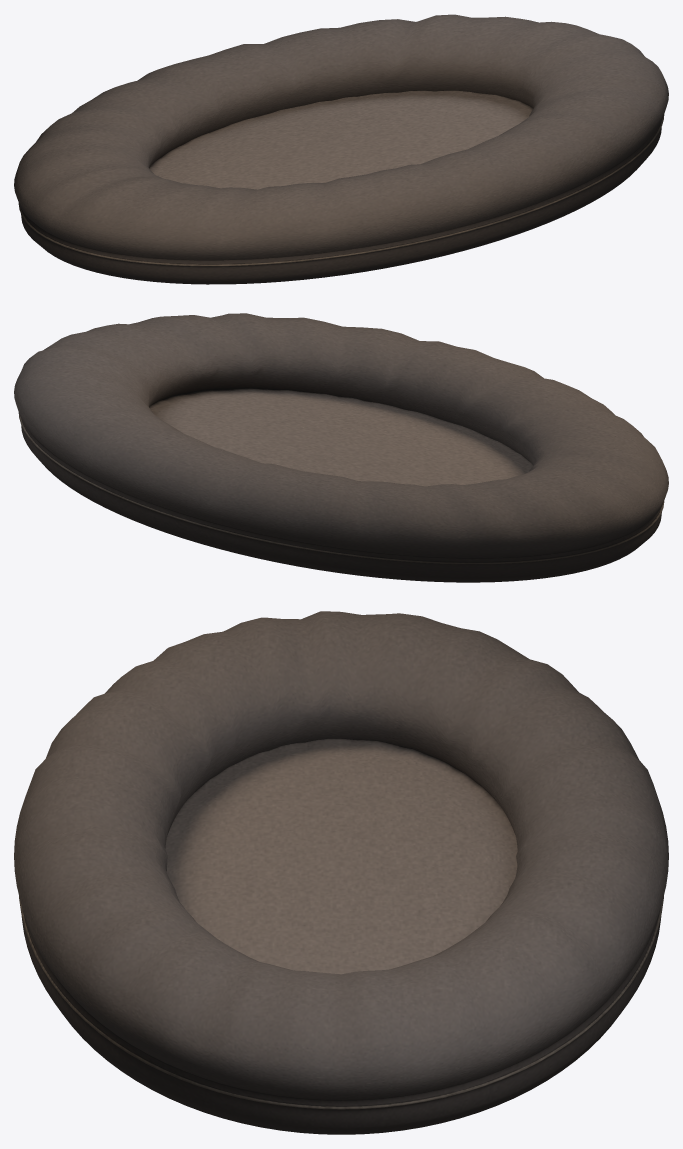
The model's file is pillow.glb.
3 views of the same model, one above another, from view 1: azimuth 30°, elevation 25°; view 2: azimuth 150°, elevation 25°; view 3: azimuth 270°, elevation 25° (orthographic). The views are drawn at different scales.
Visible parts, largest first — view 1: Pillow; view 2: Pillow; view 3: Pillow.
Part boxes in pixels (bbox=[...]): Pillow: bbox=[14, 14, 668, 284]; Pillow: bbox=[14, 313, 668, 582]; Pillow: bbox=[14, 611, 668, 1134].
Size of the model in its own units: 2.78 by 0.3307 by 1.69.
Materials: 1 (1 with a texture image).
